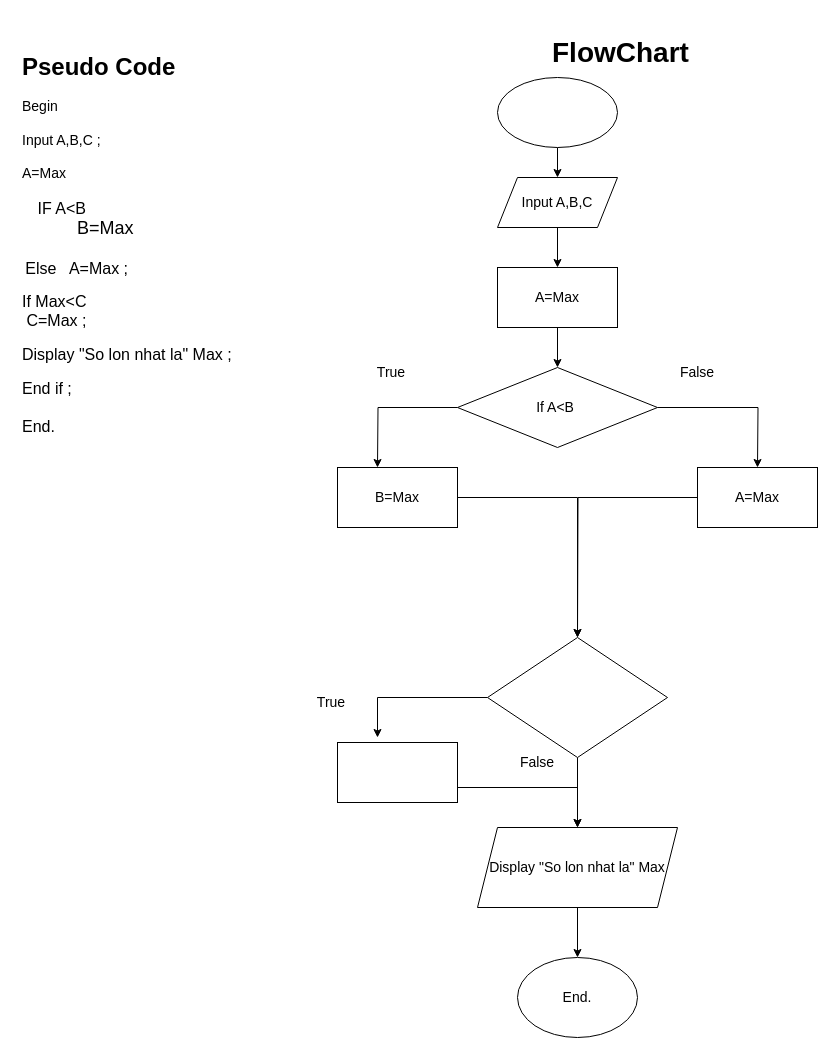
Image size: 835x1055. Some labels were removed from this diagram. Each missing label, with the centre of its shape:
Begin: [557,112]
C=Max: [397,772]
If Max<C: [577,697]
